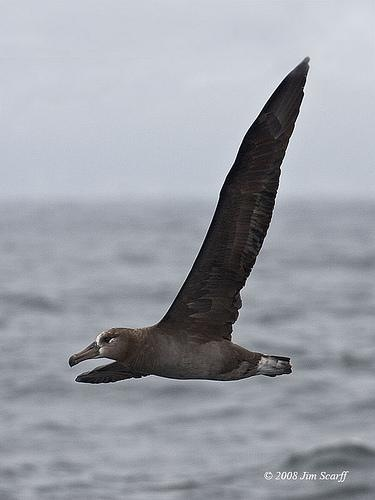bird: (64, 55, 312, 397)
